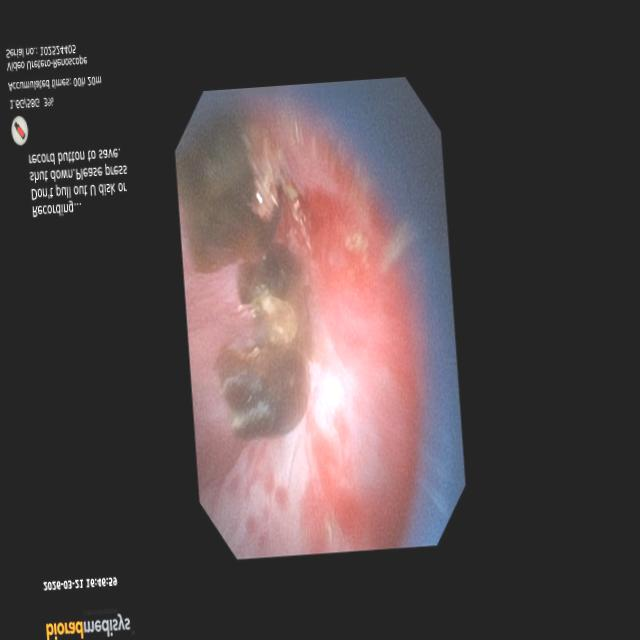stone-new: (175, 114, 284, 273), (216, 346, 309, 440), (238, 244, 303, 345)
